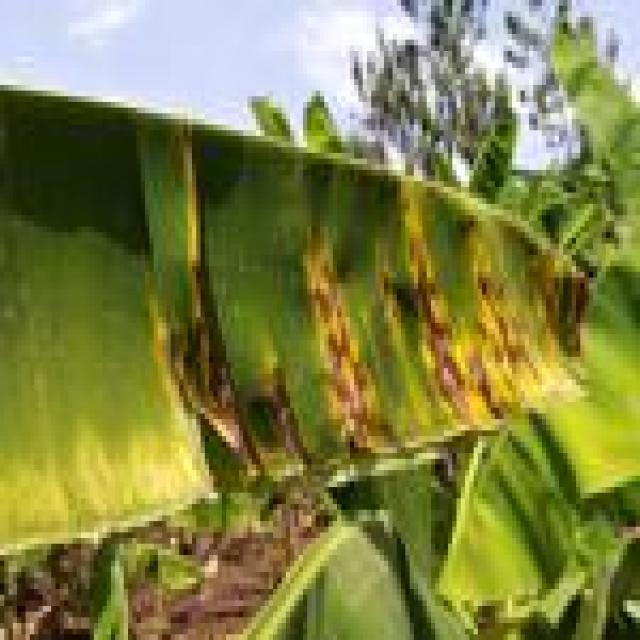Early_rust: (80, 65, 616, 495)
